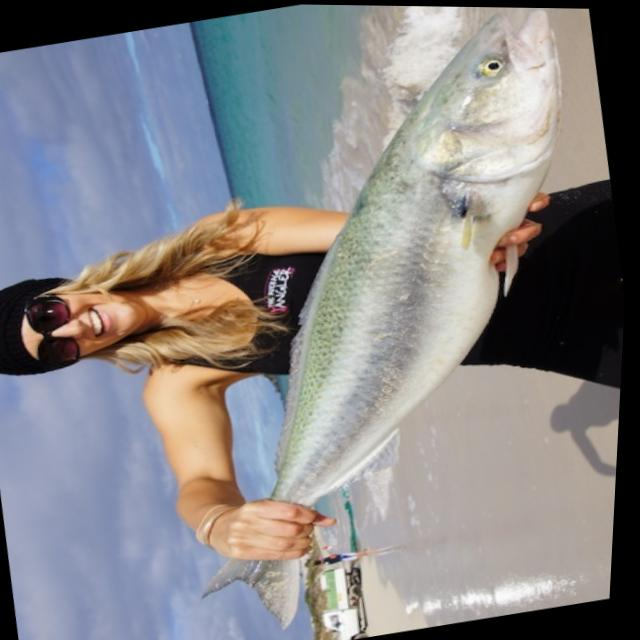Australian Salmon: (98, 1, 640, 640)
